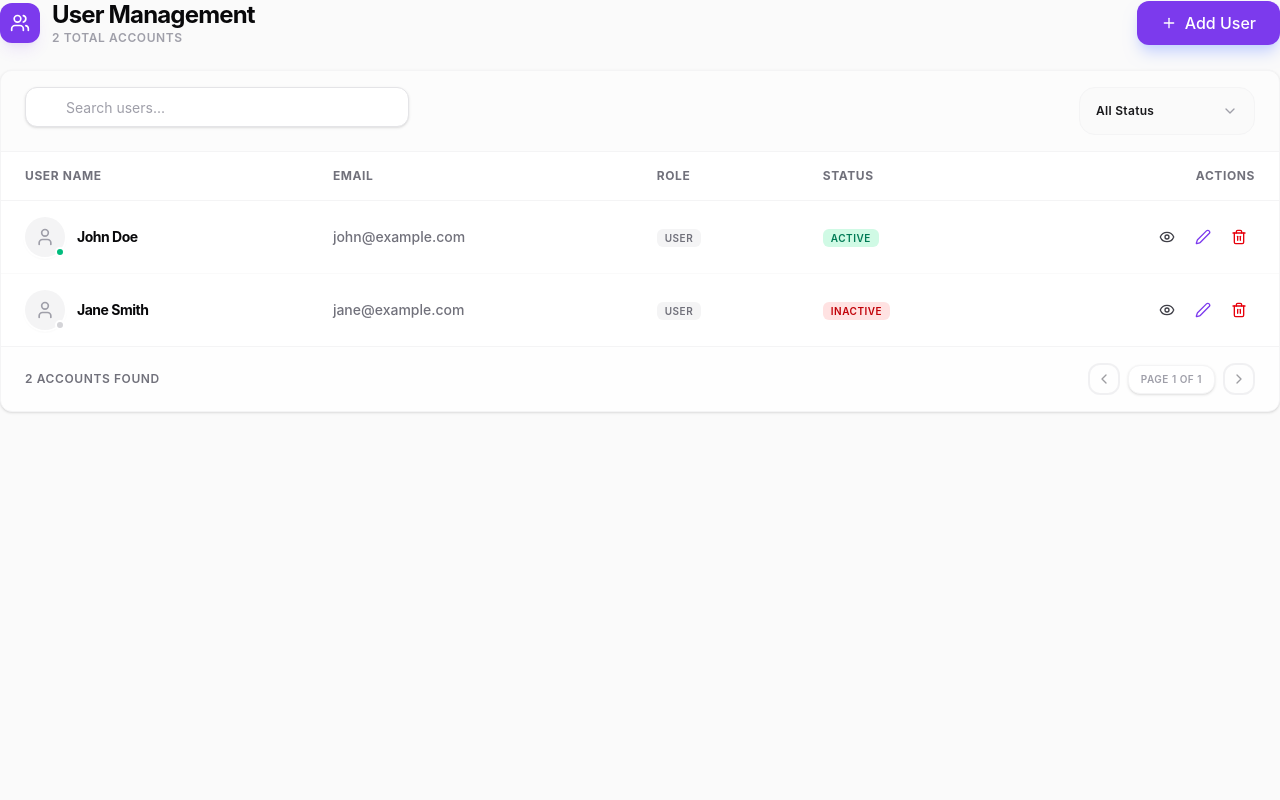
Scenario: AdminUsers › opens add user modal
Step 1. Click the button "Add User" → (1208, 23), box [1137, 1, 1279, 45]
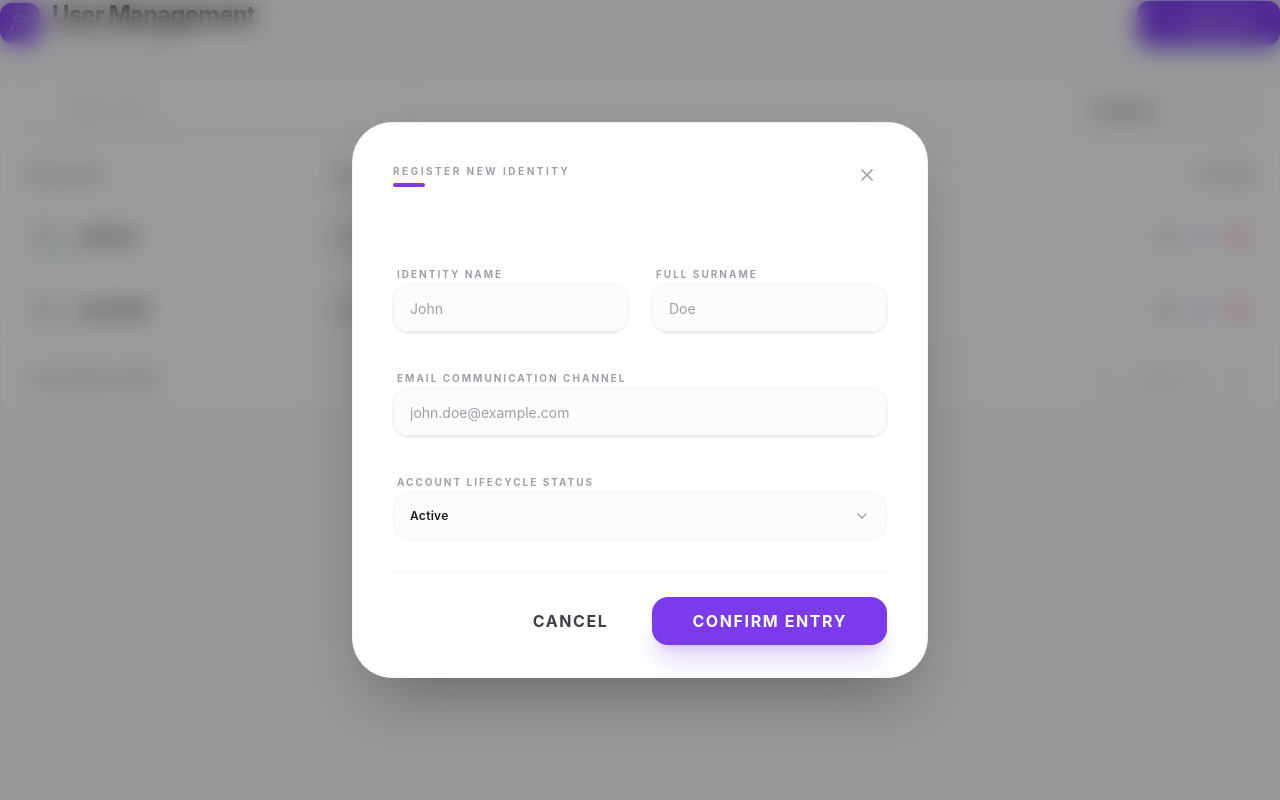
Expected: the heading "Register New Identity" is shown, [393, 164, 570, 178]
